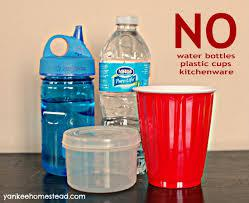Plastic: (132, 83, 217, 190), (59, 123, 142, 194)
